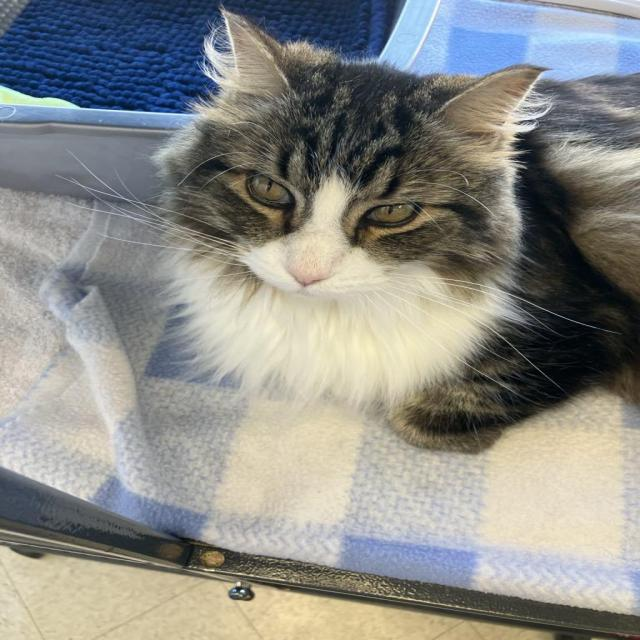persian_cat: (140, 5, 568, 391)
